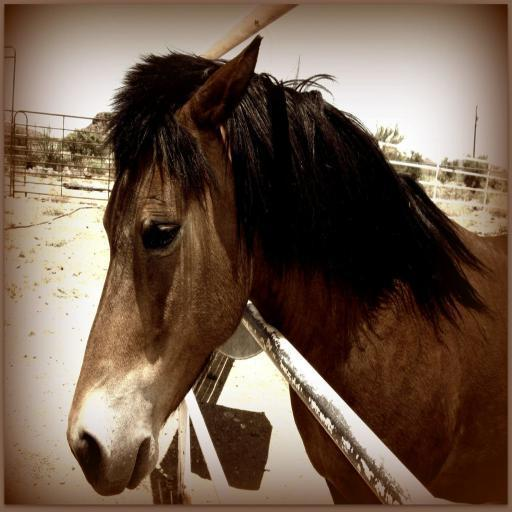horse: (66, 36, 510, 509)
